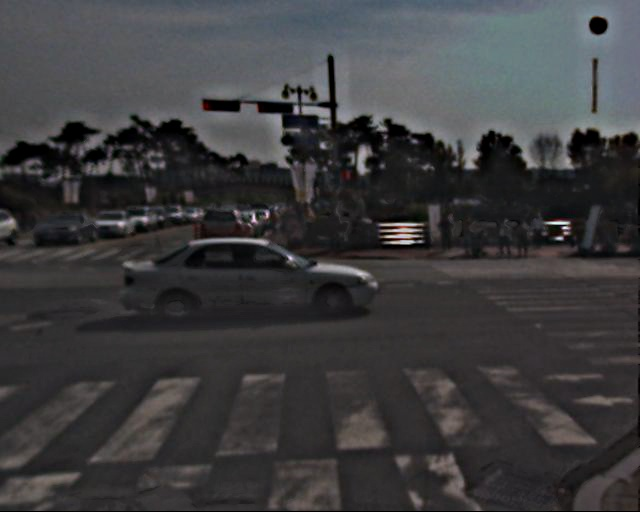person: (273, 204, 315, 247), (515, 212, 536, 262), (328, 205, 348, 253), (439, 208, 459, 256), (467, 210, 485, 255), (496, 217, 514, 262), (533, 211, 550, 252)
